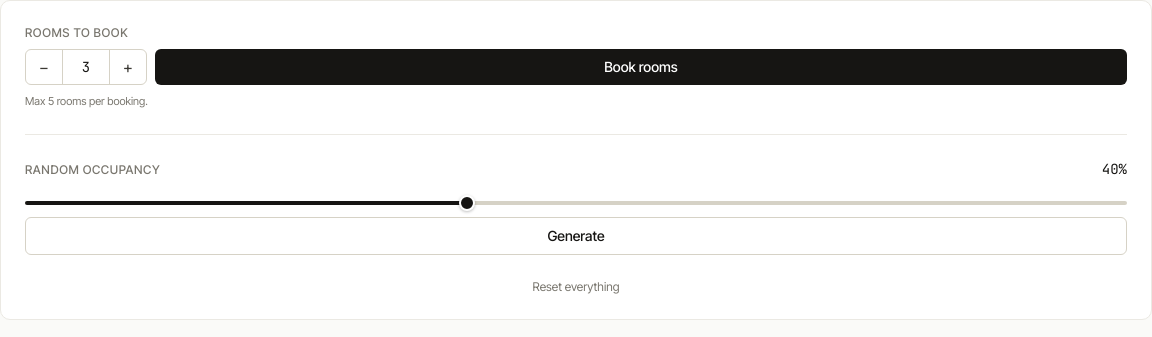
Scenario: <ControlPanel /> › count stepper › increments count when + is clicked
Click the button named "increase" at (128, 67), box [110,50,146,84]
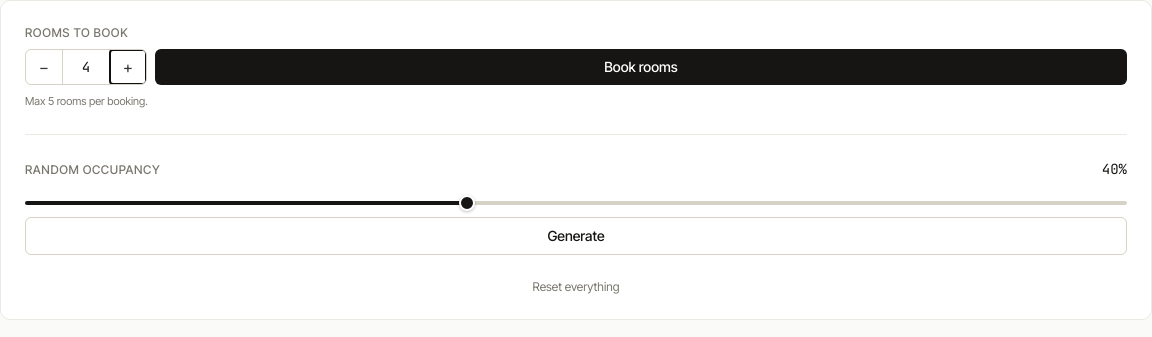
Expected: the number field showing "4" is shown, [62,50,110,84]
